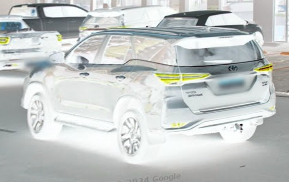car: (23, 26, 278, 160)
